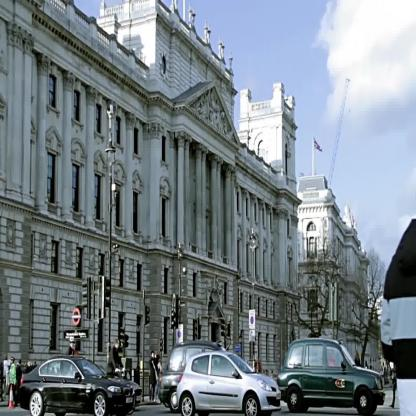car: (277, 339, 384, 413), (18, 356, 135, 416), (178, 352, 281, 416), (157, 342, 222, 414)
